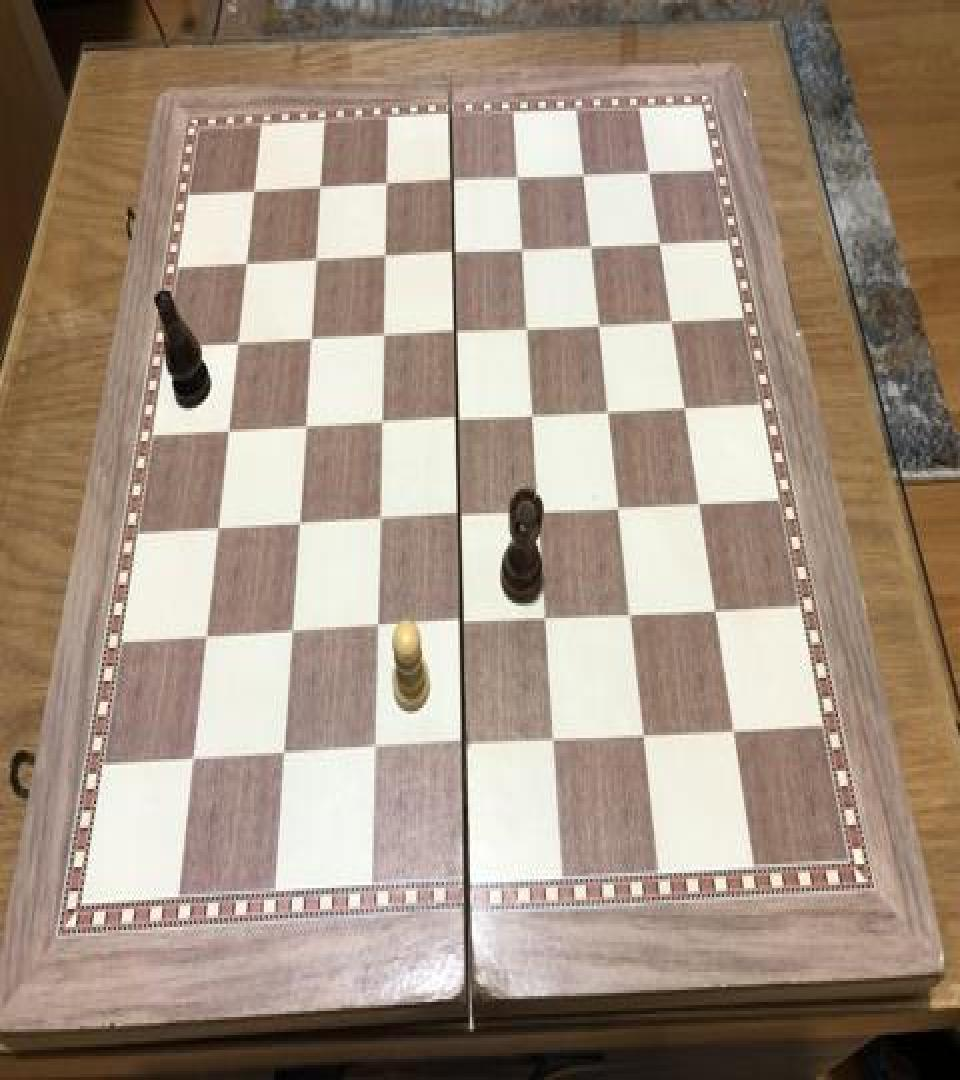xcorner: (534, 601, 558, 638), (364, 610, 388, 647), (632, 718, 656, 755), (452, 727, 476, 764), (179, 742, 203, 779), (637, 152, 661, 188), (571, 154, 595, 190), (505, 158, 529, 194), (439, 159, 463, 195), (372, 162, 396, 198), (306, 165, 330, 201), (239, 168, 263, 204), (647, 224, 671, 260), (579, 226, 603, 262), (510, 230, 534, 266), (440, 232, 464, 268), (371, 236, 395, 272), (301, 238, 325, 274), (231, 240, 255, 276), (659, 303, 683, 339), (587, 306, 611, 342), (515, 309, 539, 345), (442, 312, 466, 348), (370, 315, 394, 351), (296, 318, 320, 354), (223, 321, 247, 357), (673, 390, 697, 426), (597, 393, 621, 429), (521, 396, 545, 432), (444, 399, 468, 435), (368, 404, 392, 440), (291, 406, 315, 442), (214, 410, 238, 446), (687, 486, 711, 522), (607, 489, 631, 525), (527, 494, 551, 530), (447, 496, 471, 532), (366, 501, 390, 537), (285, 506, 309, 542), (204, 508, 228, 544), (704, 592, 728, 628), (619, 597, 643, 633), (449, 606, 473, 642), (278, 615, 302, 651), (192, 620, 216, 656), (722, 714, 746, 750), (543, 723, 567, 759), (362, 732, 386, 768), (271, 738, 295, 774)
